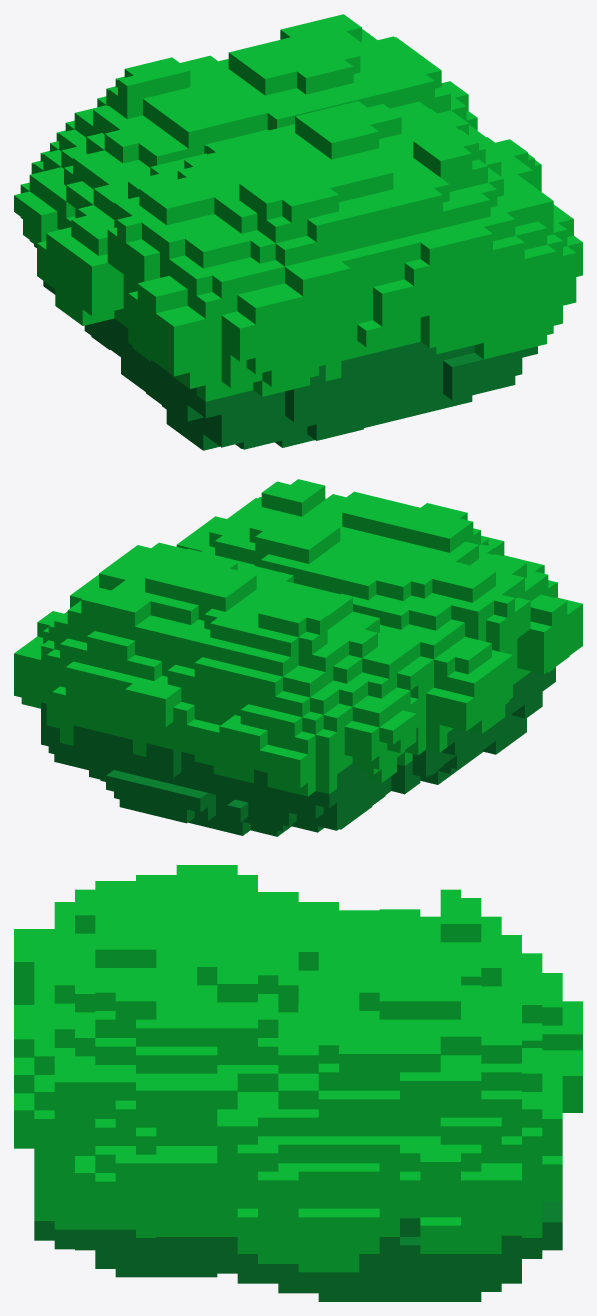
File: canopy_1.glb
3 views of the same model, one above another, from view 1: azimuth 30°, elevation 25°; view 2: azimuth 150°, elevation 25°; view 3: azimuth 270°, elevation 25° (orthographic). The views are drawn at different scales.
Parts seen in each view (by area): view 1: canopy_1; view 2: canopy_1; view 3: canopy_1.
Part boxes in pixels (left/top/right/bottom): canopy_1: left=14, top=14, right=582, bottom=450; canopy_1: left=14, top=479, right=582, bottom=836; canopy_1: left=14, top=865, right=582, bottom=1301.
Size of the model in its own units: 9 by 4.5 by 8.4.
Materials: 1 (1 with a texture image).
